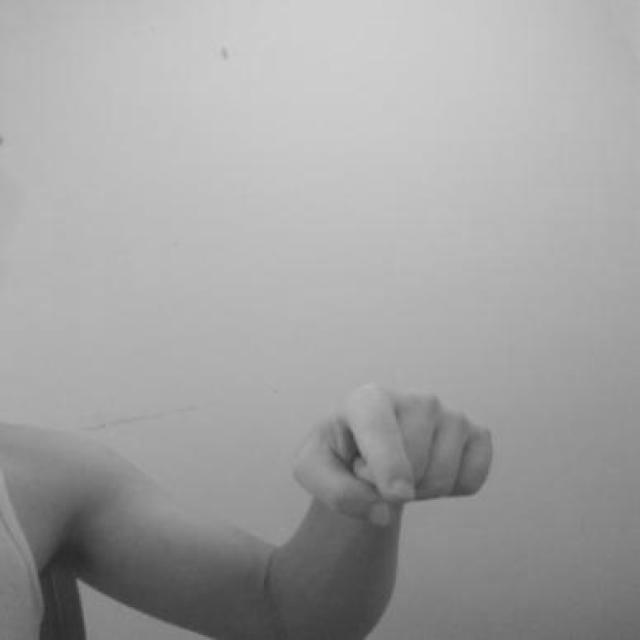Z: (283, 376, 501, 536)
